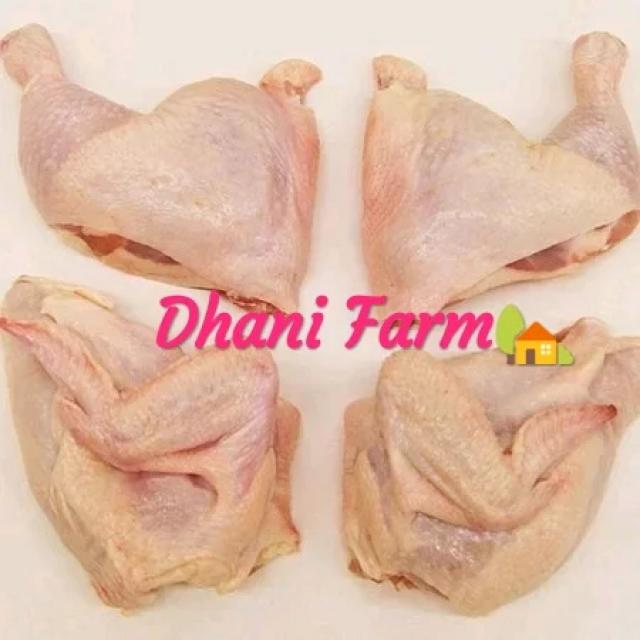chicken: (7, 276, 296, 610), (0, 21, 316, 324), (339, 320, 630, 617), (365, 33, 640, 328)
